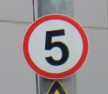speed_limit_5: (22, 14, 88, 80)
